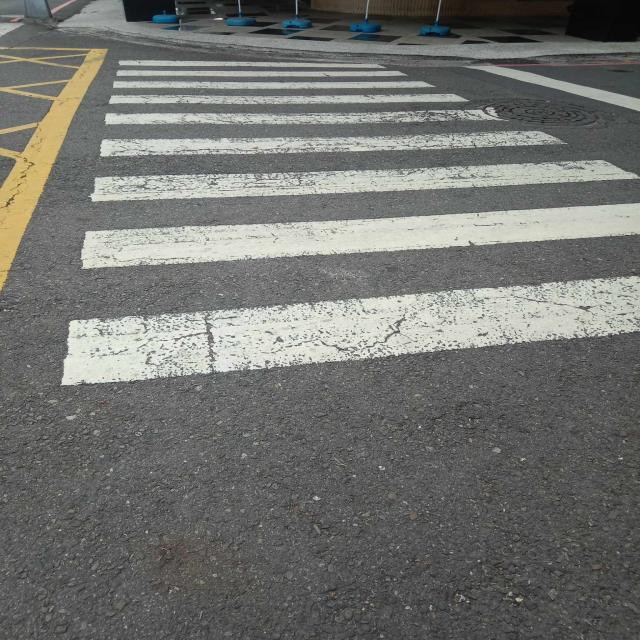zebra crossing: (69, 60, 640, 389)
